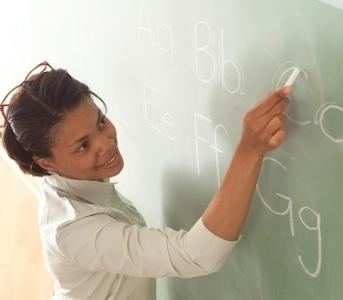person: (5, 69, 291, 300)
